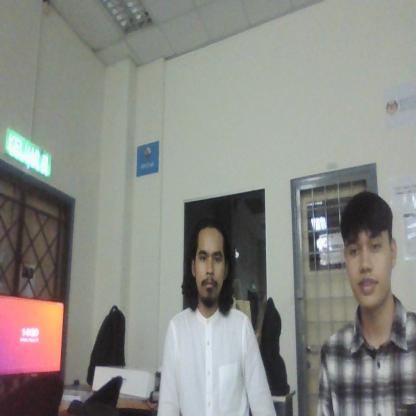Open-Eyes: (345, 229, 386, 260), (197, 244, 223, 270)
